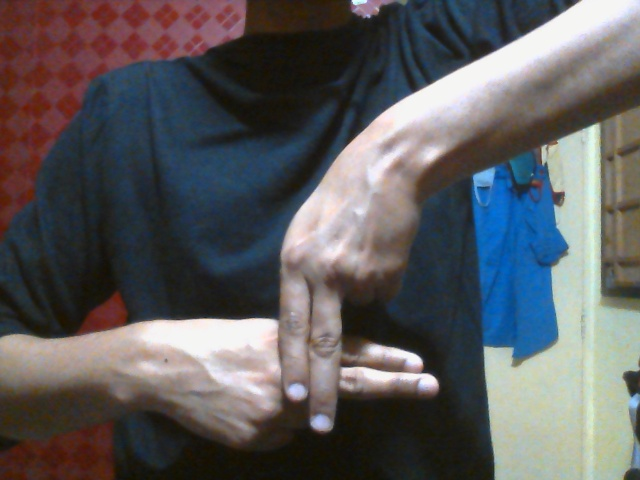F: (153, 160, 442, 453)
